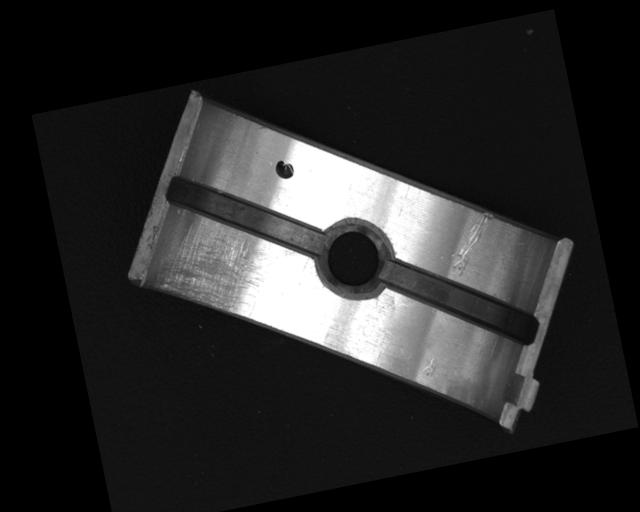blot: (272, 157, 295, 180)
bruise: (418, 355, 439, 379)
gap: (379, 235, 543, 370), (163, 152, 326, 281)
hole: (310, 214, 401, 305)
nick: (441, 209, 503, 278)
scratch: (143, 200, 304, 339)
